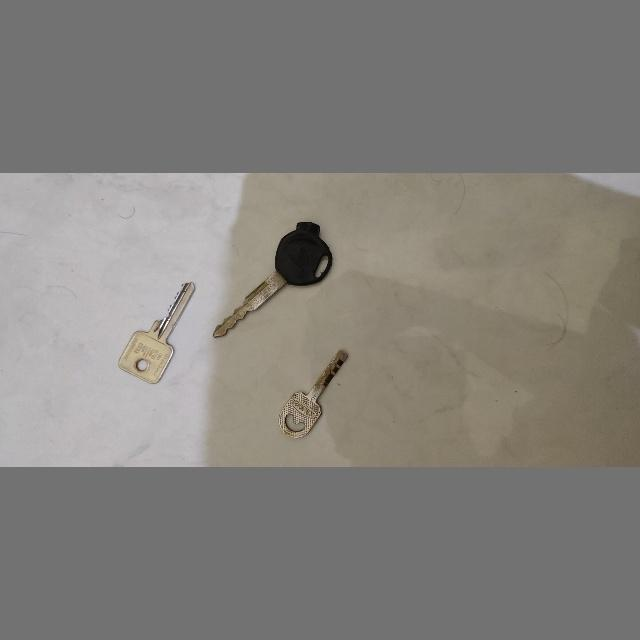Keys: (211, 218, 335, 340), (116, 280, 202, 388), (278, 348, 350, 439)
